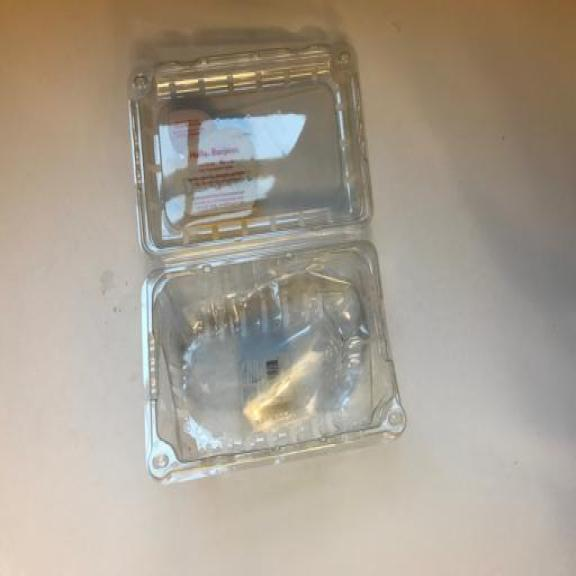Plastik: (124, 26, 412, 488)
